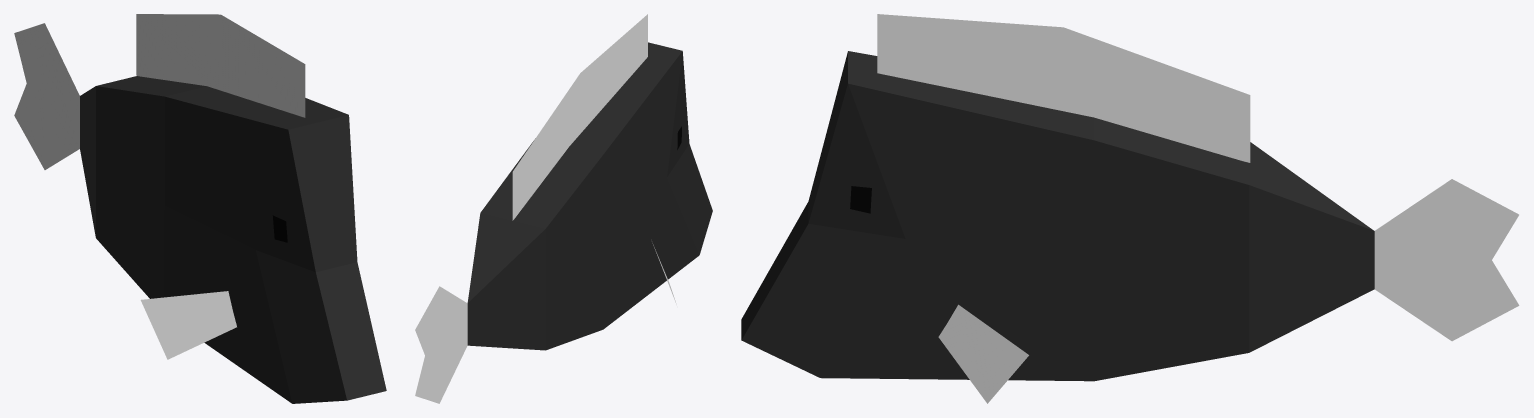
File: 09flounder.fbx
3 renders of one model, left to right at view 1: azimuth 30°, elevation 25°; view 2: azimuth 150°, elevation 25°; view 3: azimuth 270°, elevation 25°, orthographic. The views are drawn at different scales.
Visible parts, largest first — view 1: Tropical Fish 13; view 2: Tropical Fish 13; view 3: Tropical Fish 13.
Part boxes in pixels (x1,y1,x2,y2): Tropical Fish 13: (14,14,386,403); Tropical Fish 13: (415,14,712,403); Tropical Fish 13: (741,14,1519,403).
Bounding box in the file's own units: 47.16 × 73.32 × 150.
